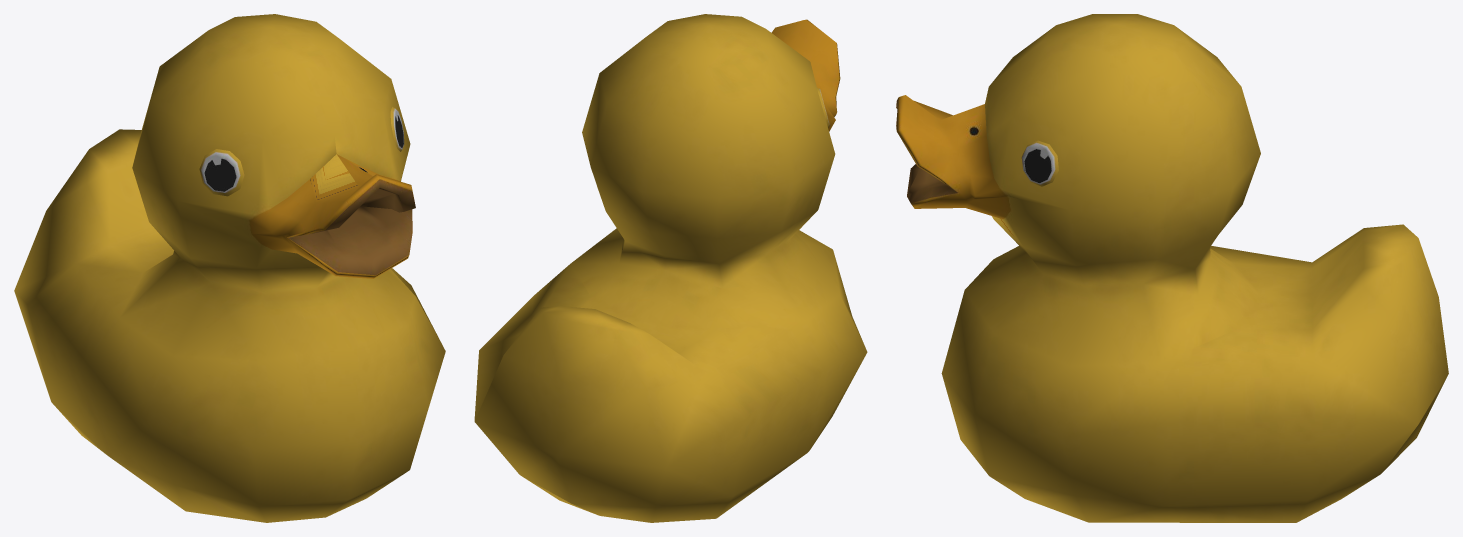
3 views of the same model, side by side, from view 1: azimuth 30°, elevation 25°; view 2: azimuth 150°, elevation 25°; view 3: azimuth 270°, elevation 25° (orthographic). The views are drawn at different scales.
Parts seen in each view (by area): view 1: Ducky; view 2: Ducky; view 3: Ducky.
Part boxes in pixels (box(x1,y1,x2,y2)): Ducky: box(14, 14, 445, 522); Ducky: box(474, 14, 867, 522); Ducky: box(896, 14, 1448, 522).
Bounding box in the file's own units: 0.2412 × 0.3203 × 0.3568.
1 material, 1 textured.
